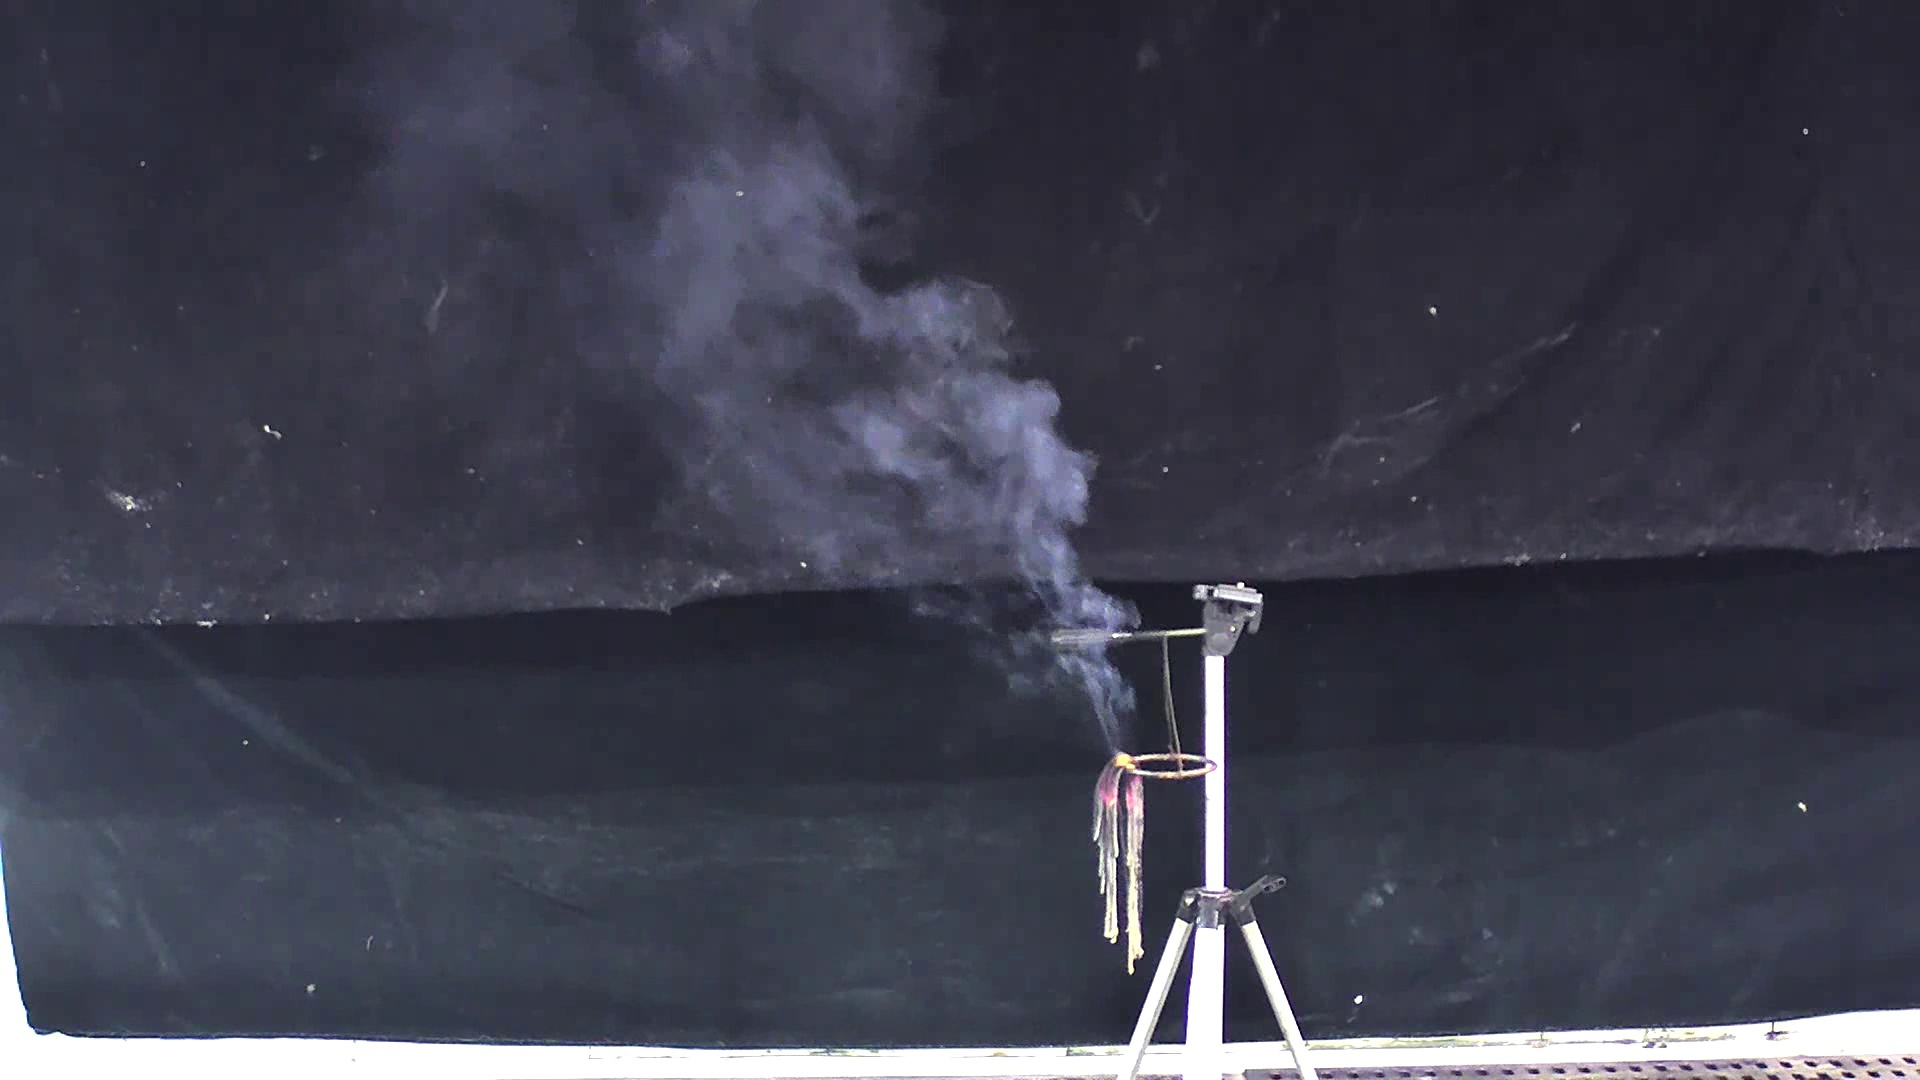smoke: (361, 11, 1158, 752)
